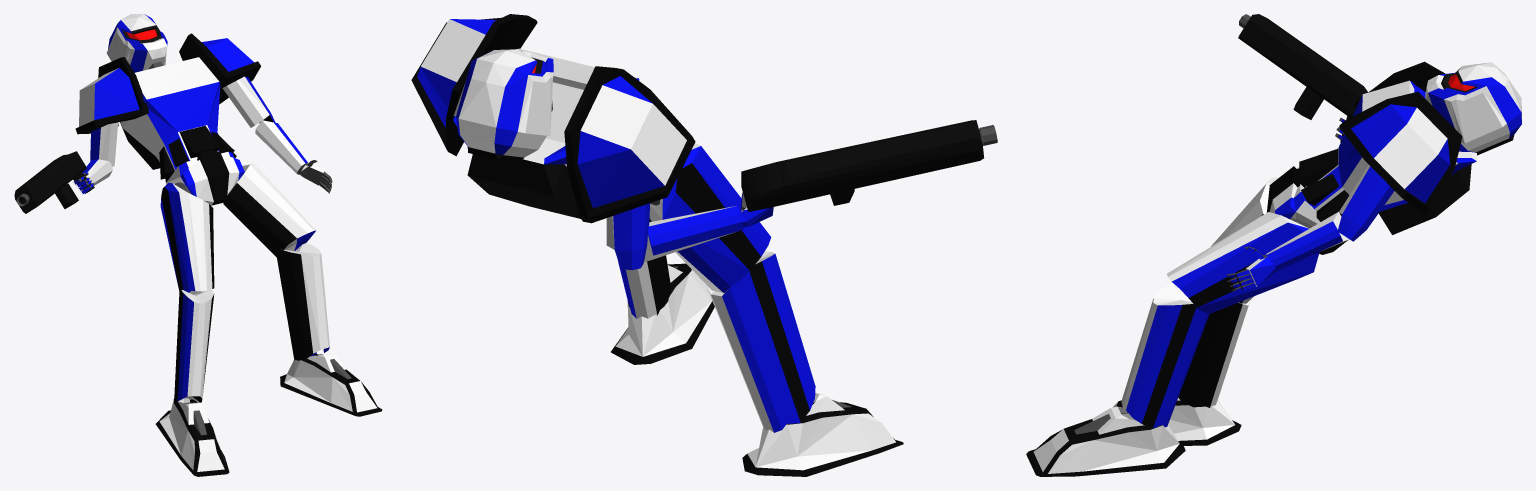
Rendered from robots_000017.obj.
3 renders of one model, left to right at view 1: azimuth 30°, elevation 25°; view 2: azimuth 150°, elevation 25°; view 3: azimuth 270°, elevation 25°, orthographic. The views are drawn at different scales.
Parts seen in each view (by area): view 1: Chest_plate_Cube.004, R_Thigh_Cube.005, R_Shin.002_Cube.029, R_Thigh.002_Cube.027, R_Foot.002_Cube.035, Cube.002_Cube.059, R_Shin_Cube.007, R_Foot_Cube, Pelvis_Cube.006, Head_base_Cube.022, Cube_Cube.001, Cube_Cube.021 (+4 smaller); view 2: Cube.002_Cube.059, Cube_Cube.001, R_Shin_Cube.007, Head_base_Cube.022, R_Foot_Cube, Chest_plate_Cube.004, R_Thigh_Cube.005, Cube_Cube.021, R_Foot.002_Cube.035, R_Forearm_Cube.008, R_Shin.002_Cube.029, R_Arm_Cube.002; view 3: Cube_Cube.021, R_Foot.002_Cube.035, R_Shin.002_Cube.029, Chest_plate_Cube.004, R_Thigh.002_Cube.027, Head_base_Cube.022, Cube_Cube.001, R_Shin_Cube.007, R_Foot_Cube, L_Arm_Cube.014, L_Forearm_Cube.020, Pelvis_Cube.006 (+3 smaller).
Boxes of the visible parts, <box> form: Chest_plate_Cube.004: <box>120,57,236,179</box>; R_Thigh_Cube.005: <box>160,182,214,294</box>; R_Shin.002_Cube.029: <box>277,243,329,360</box>; R_Thigh.002_Cube.027: <box>223,163,315,258</box>; R_Foot.002_Cube.035: <box>280,352,382,416</box>; Cube.002_Cube.059: <box>75,57,148,134</box>; R_Shin_Cube.007: <box>174,289,214,402</box>; R_Foot_Cube: <box>155,396,229,476</box>; Pelvis_Cube.006: <box>165,149,244,205</box>; Head_base_Cube.022: <box>106,14,167,72</box>; Cube_Cube.001: <box>14,151,94,213</box>; Cube_Cube.021: <box>179,33,260,104</box>; Cube.002_Cube.059: <box>564,66,695,223</box>; Cube_Cube.001: <box>741,120,997,211</box>; R_Shin_Cube.007: <box>706,251,815,432</box>; Head_base_Cube.022: <box>453,49,553,162</box>; R_Foot_Cube: <box>742,392,903,476</box>; Chest_plate_Cube.004: <box>453,48,639,218</box>; R_Thigh_Cube.005: <box>649,143,771,292</box>; Cube_Cube.021: <box>411,14,537,156</box>; R_Foot.002_Cube.035: <box>611,263,714,364</box>; R_Forearm_Cube.008: <box>643,206,743,262</box>; R_Shin.002_Cube.029: <box>617,218,671,318</box>; R_Arm_Cube.002: <box>606,203,650,270</box>; Cube_Cube.021: <box>1339,91,1462,214</box>; R_Foot.002_Cube.035: <box>1026,406,1185,476</box>; R_Shin.002_Cube.029: <box>1121,283,1209,428</box>; Chest_plate_Cube.004: <box>1299,80,1476,234</box>; R_Thigh.002_Cube.027: <box>1167,212,1319,313</box>; Head_base_Cube.022: <box>1425,62,1521,155</box>; Cube_Cube.001: <box>1238,14,1367,142</box>; R_Shin_Cube.007: <box>1178,300,1250,407</box>; R_Foot_Cube: <box>1112,397,1241,445</box>; L_Arm_Cube.014: <box>1338,165,1394,241</box>; L_Forearm_Cube.020: <box>1266,211,1349,271</box>; Pelvis_Cube.006: <box>1266,166,1347,254</box>.
Bounding box in the file's own units: 2.45 × 2.48 × 2.65.
